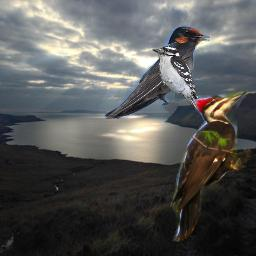Swallow: (104, 26, 210, 119)
Woodpecker: (170, 88, 252, 243), (152, 46, 200, 111)
